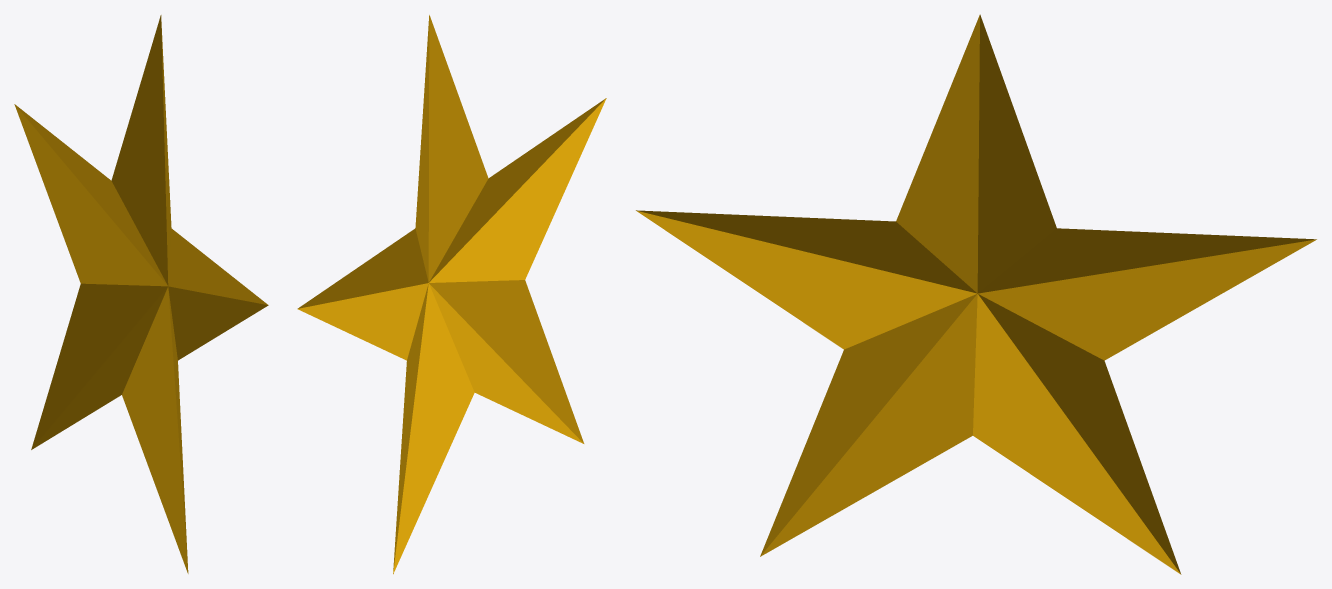
File: star.gltf
3 renders of one model, left to right at view 1: azimuth 30°, elevation 25°; view 2: azimuth 150°, elevation 25°; view 3: azimuth 270°, elevation 25°, orthographic. The views are drawn at different scales.
Visible parts, largest first — view 1: Mesh; view 2: Mesh; view 3: Mesh.
Boxes of the visible parts, x1,y1,x2,y2 form: Mesh: (14,15,268,573); Mesh: (297,15,606,574); Mesh: (636,14,1316,574).
Size of the model in its own units: 0.1237 by 0.8344 by 0.8761.
